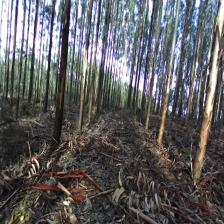trunk: (191, 49, 224, 181), (53, 1, 71, 141), (156, 63, 174, 144), (78, 20, 90, 131), (88, 23, 100, 120), (42, 27, 52, 111), (28, 25, 37, 101), (144, 70, 154, 130), (9, 28, 16, 103)
